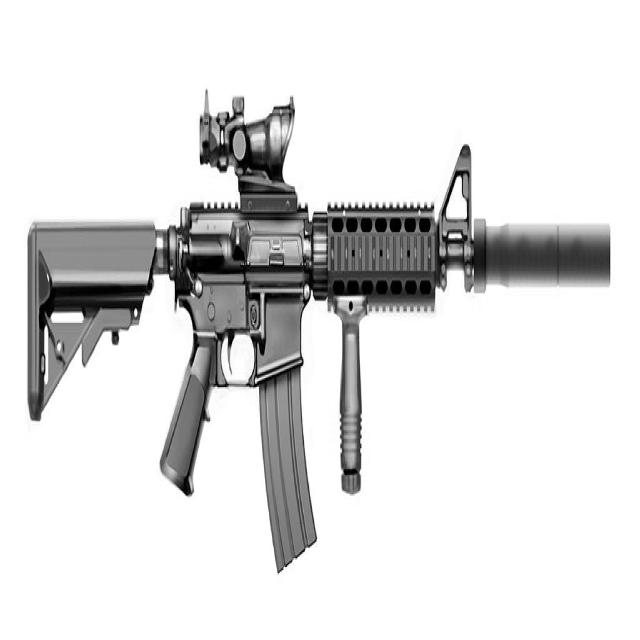weapon: (23, 99, 620, 584)
